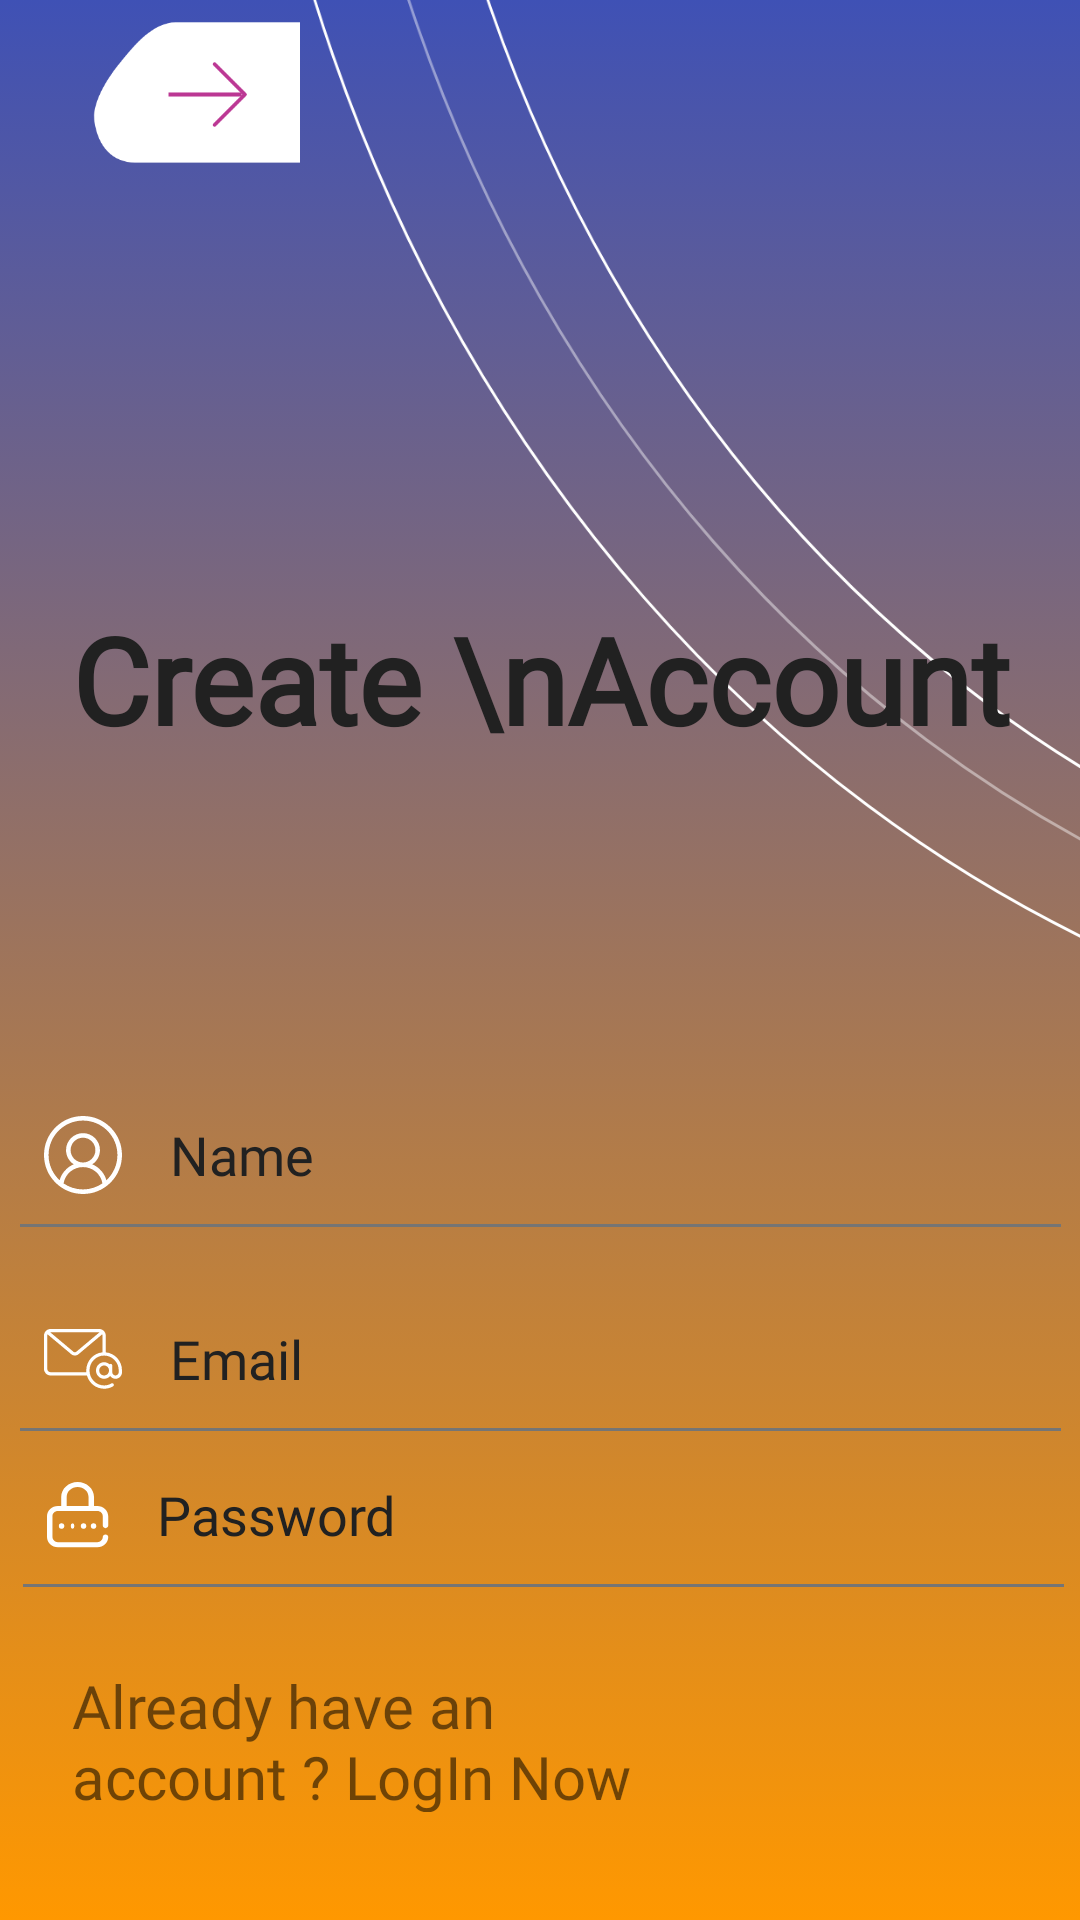

Icons on this 1080px x 1920px Android screen, each with its box as Rect(x1, y1, x2, y2):
login: Rect(94, 22, 300, 163)
